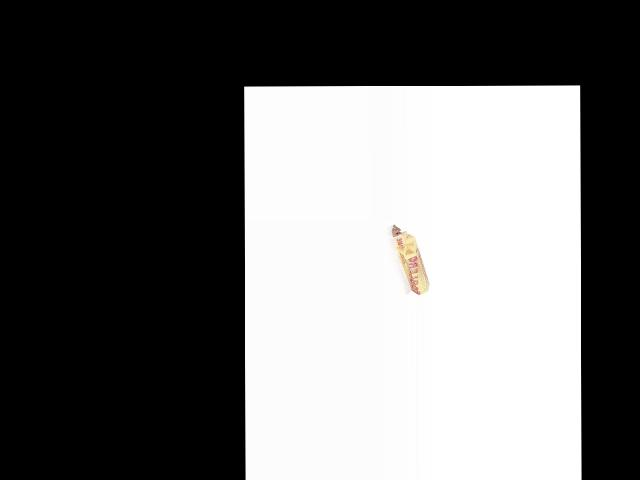chocolate: (388, 224, 430, 294)
